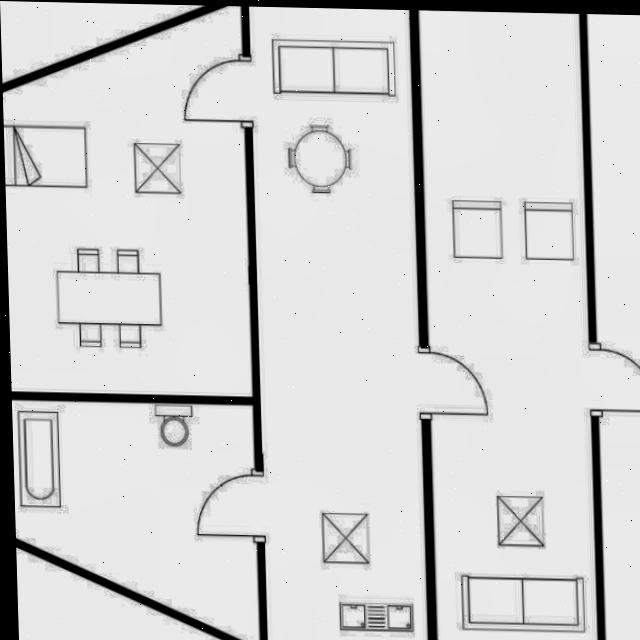room: (419, 5, 597, 640), (250, 1, 426, 640), (0, 5, 252, 403), (6, 399, 264, 640)
